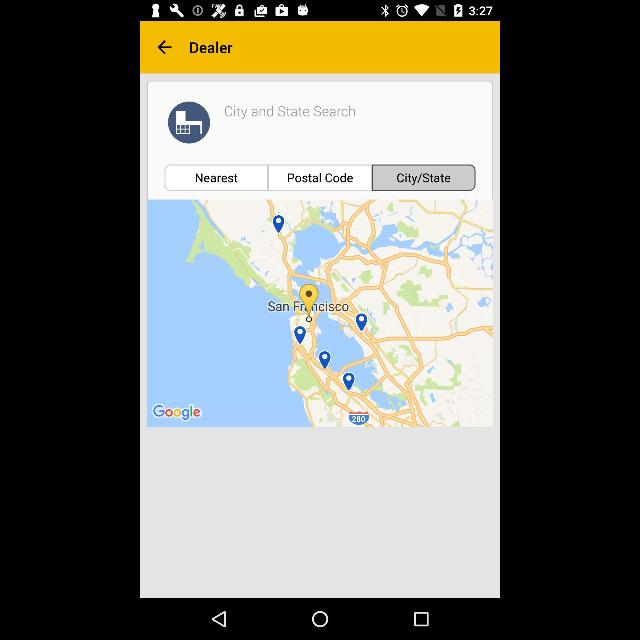icon: (168, 102, 210, 144), (312, 610, 328, 628), (212, 610, 226, 628), (158, 39, 172, 55), (414, 612, 428, 626)
map: (148, 200, 494, 428)
panel: (140, 598, 500, 640)
text: (225, 104, 355, 120), (398, 173, 450, 185), (289, 174, 353, 182), (191, 42, 233, 54), (196, 173, 238, 183)
toolbar: (140, 22, 500, 74)
uppertaskbar: (140, 0, 500, 20)
